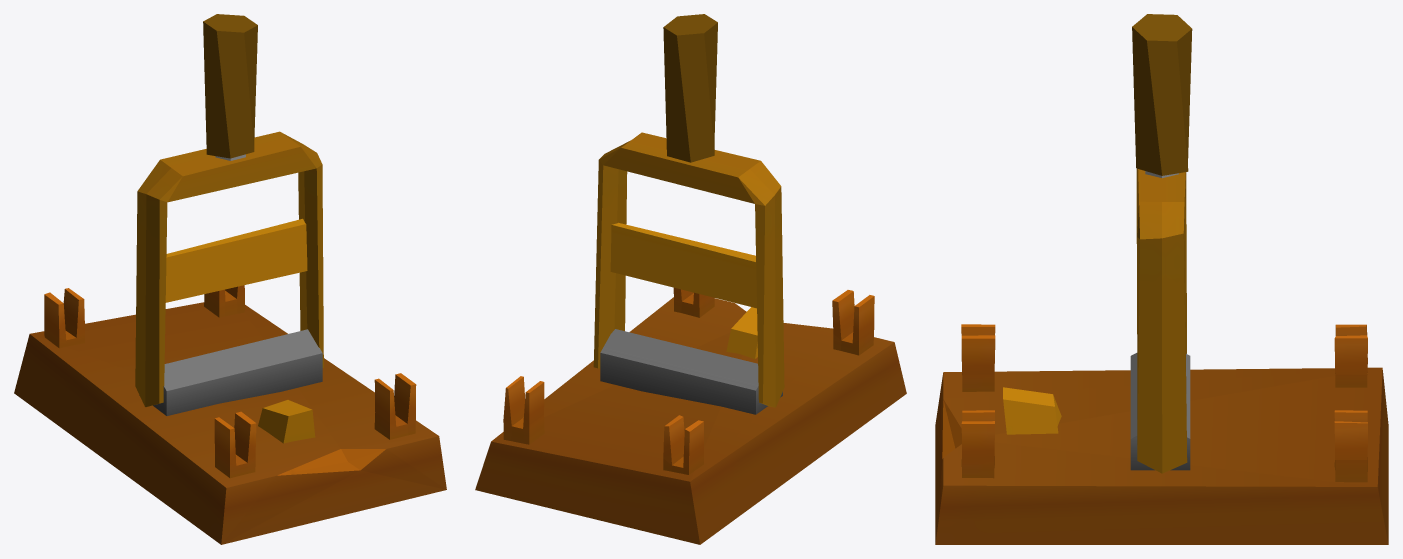
The model's file is Switch.glb.
3 renders of one model, left to right at view 1: azimuth 30°, elevation 25°; view 2: azimuth 150°, elevation 25°; view 3: azimuth 270°, elevation 25°, orthographic. The views are drawn at different scales.
Parts seen in each view (by area): view 1: Lever_2; view 2: Lever_2; view 3: Lever_2.
Part boxes in pixels (x1=…): Lever_2: x1=14, y1=14, x2=446, y2=544; Lever_2: x1=475, y1=14, x2=906, y2=544; Lever_2: x1=935, y1=14, x2=1388, y2=544.
Size of what is drawn, in the model's own units: 0.2752 by 0.4901 by 0.4376.
Materials: 1 (1 with a texture image).
